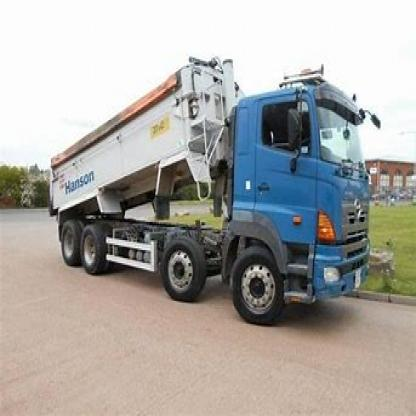dump_truck: (42, 38, 382, 340)
